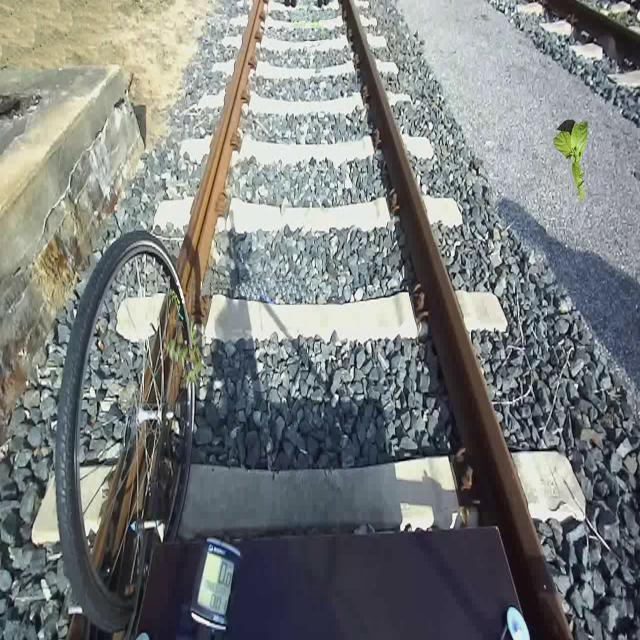Plant: (163, 318, 204, 390), (553, 119, 588, 202)
